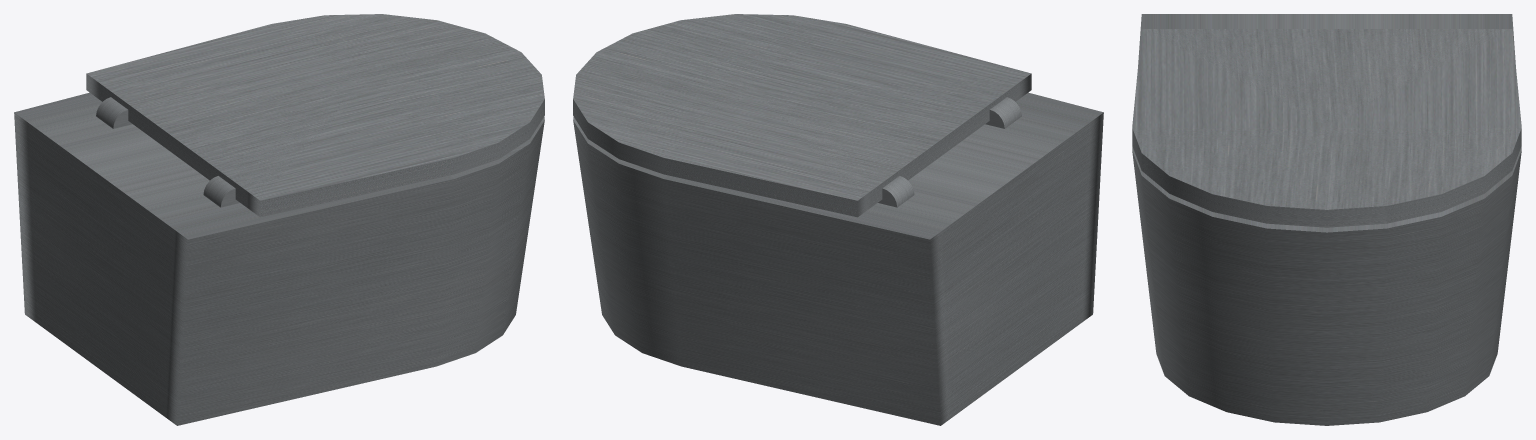
The picture shows the model from 3 angles, left to right: view 1: azimuth 30°, elevation 25°; view 2: azimuth 150°, elevation 25°; view 3: azimuth 270°, elevation 25°; orthographic projection. The views are drawn at different scales.
Parts seen in each view (by area): view 1: pCylinder2, pCylinder3, pCylinder4, pCylinder5; view 2: pCylinder2, pCylinder3, pCylinder5, pCylinder4; view 3: pCylinder2, pCylinder3.
Boxes of the visible parts, bbox=[...] form: pCylinder2: bbox=[14, 92, 544, 425]; pCylinder3: bbox=[86, 14, 544, 217]; pCylinder4: bbox=[96, 97, 132, 128]; pCylinder5: bbox=[203, 176, 239, 207]; pCylinder2: bbox=[573, 92, 1103, 425]; pCylinder3: bbox=[573, 14, 1031, 217]; pCylinder5: bbox=[985, 97, 1021, 128]; pCylinder4: bbox=[878, 176, 914, 207]; pCylinder2: bbox=[1132, 14, 1521, 425]; pCylinder3: bbox=[1132, 29, 1521, 227].
Bounding box in the file's own units: 2.65 × 1.3 × 2.
Materials: 1 (1 with a texture image).
